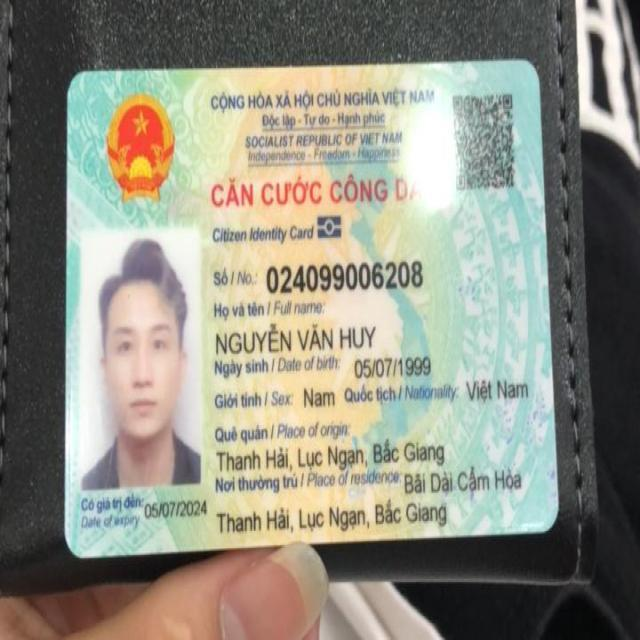bottom_left: (52, 522, 104, 568)
bottom_right: (511, 496, 574, 544)
image_person: (86, 232, 202, 488)
top_left: (52, 57, 96, 110)
top_right: (506, 52, 548, 92)
